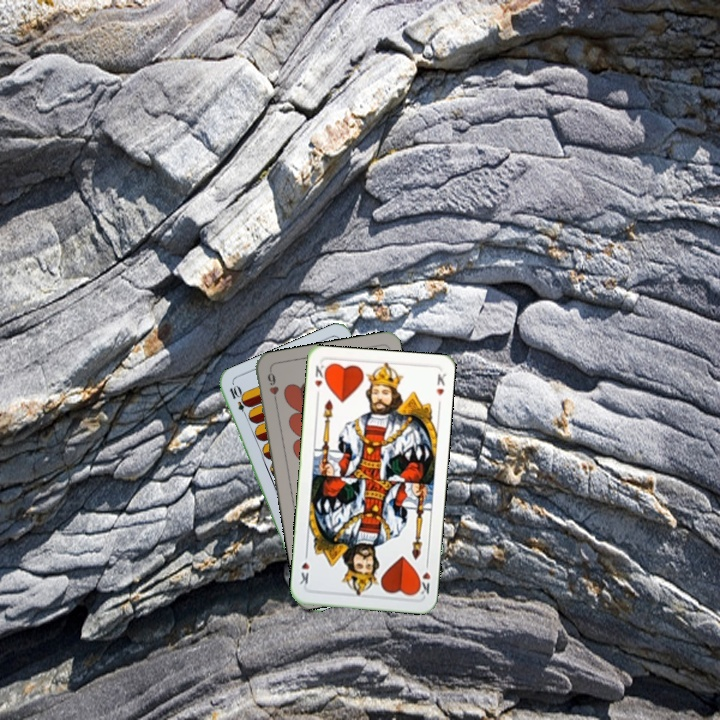E10: (225, 381, 251, 421)
H9: (263, 367, 281, 407)
HK: (414, 557, 433, 597), (311, 361, 329, 401)
